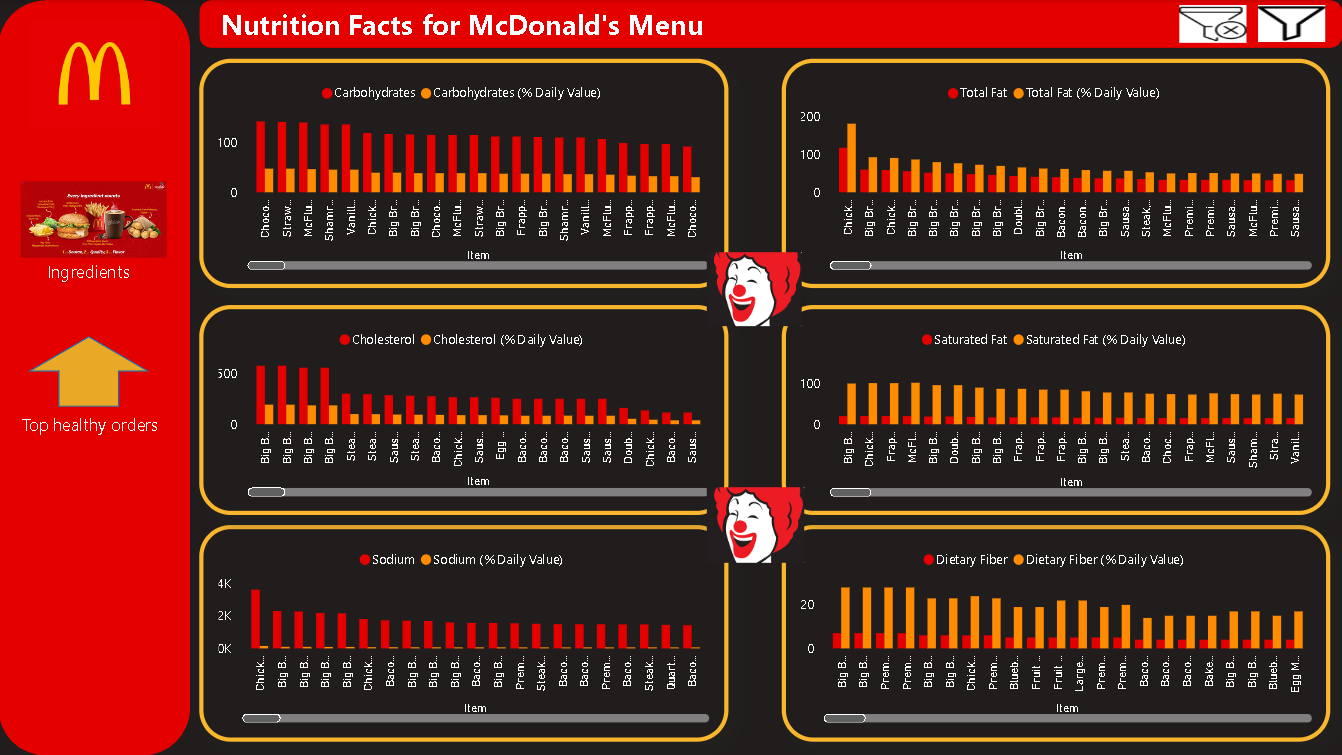

The page's visual inventory and layout, read from the dashboard file:
{"tool":"powerbi","page":{"name":"Ingredients","canvas":[1280,720],"ordinal":1},"visuals":[{"type":"shape","box":[191.4,0,1088.6,45.7],"z":0},{"type":"shape","box":[955,45,323.8,330],"z":0,"group":"g1"},{"type":"shape","box":[0,0,183.3,720.2],"z":1000},{"type":"slicer","fields":{"Values":["1_(EDA) on Retail Sales Data.Category"]},"box":[968.8,56.2,300,300],"z":1000,"group":"g1"},{"type":"textbox","box":[207.1,0,525,56],"z":2000},{"type":"image","box":[1220,56,48,42],"z":2000,"group":"g1"},{"type":"clusteredColumnChart","fields":{"Category":["1_(EDA) on Retail Sales Data.Item"],"Y":["Sum(1_(EDA) on Retail Sales Data.Sodium)","Sum(1_(EDA) on Retail Sales Data.Sodium (% Daily Value))"]},"box":[191.2,500,503.8,206.2],"z":3000},{"type":"clusteredColumnChart","fields":{"Category":["1_(EDA) on Retail Sales Data.Item"],"Y":["Sum(1_(EDA) on Retail Sales Data.Dietary Fiber)","Sum(1_(EDA) on Retail Sales Data.Dietary Fiber (% Daily Value))"]},"box":[746.2,500,522.5,206.2],"z":4000},{"type":"clusteredColumnChart","fields":{"Category":["1_(EDA) on Retail Sales Data.Item"],"Y":["Sum(1_(EDA) on Retail Sales Data.Saturated Fat)","Sum(1_(EDA) on Retail Sales Data.Saturated Fat (% Daily Value))"]},"box":[746.2,290,522.5,200],"z":5000},{"type":"clusteredColumnChart","fields":{"Category":["1_(EDA) on Retail Sales Data.Item"],"Y":["Sum(1_(EDA) on Retail Sales Data.Total Fat)","Sum(1_(EDA) on Retail Sales Data.Total Fat (% Daily Value))"]},"box":[746.2,56.2,522.5,218.8],"z":6000},{"type":"clusteredColumnChart","fields":{"Category":["1_(EDA) on Retail Sales Data.Item"],"Y":["Sum(1_(EDA) on Retail Sales Data.Cholesterol)","Sum(1_(EDA) on Retail Sales Data.Cholesterol (% Daily Value))"]},"box":[191.2,290,503.8,200],"z":7000},{"type":"clusteredColumnChart","fields":{"Category":["1_(EDA) on Retail Sales Data.Item"],"Y":["Sum(1_(EDA) on Retail Sales Data.Carbohydrates)","Sum(1_(EDA) on Retail Sales Data.Carbohydrates (% Daily Value))"]},"box":[191.2,56.2,503.8,218.8],"z":8000},{"type":"image","box":[1195,0,73.8,45],"z":9000},{"type":"image","box":[670,225,100,100],"z":11000},{"type":"image","box":[670,448.8,102.5,102.5],"z":12000},{"type":"image","box":[23.8,14.3,135.7,113.1],"z":13000},{"type":"image","box":[16.2,167.5,148.8,82.5],"z":14000},{"type":"textbox","box":[41.2,241.2,100,33.8],"z":15000},{"type":"textbox","box":[17.5,387.5,156.2,35],"z":16000},{"type":"shape","box":[28.8,320,116.2,67.5],"z":17000},{"type":"image","box":[1120.3,0,73.4,45.6],"z":18000},{"type":"group","id":"g1","title":"Group 1","box":[955,45,323.8,330],"z":18500}]}

Visuals, with their boxes in screenshot pixels (x1, y1, x2, y2), scaled from the page's 1280x720 canvas onto the 1342x755 screenshot:
shape: 201, 0, 1341, 48
shape: 1001, 47, 1341, 393
shape: 0, 0, 192, 754
slicer - 1_(EDA) on Retail Sales Data.Category: 1016, 59, 1330, 374
textbox: 217, 0, 768, 59
image: 1279, 59, 1329, 103
clusteredColumnChart - 1_(EDA) on Retail Sales Data.Item x Sum(1_(EDA) on Retail Sales Data.Sodium): 200, 524, 729, 741
clusteredColumnChart - 1_(EDA) on Retail Sales Data.Item x Sum(1_(EDA) on Retail Sales Data.Dietary Fiber): 782, 524, 1330, 741
clusteredColumnChart - 1_(EDA) on Retail Sales Data.Item x Sum(1_(EDA) on Retail Sales Data.Saturated Fat): 782, 304, 1330, 514
clusteredColumnChart - 1_(EDA) on Retail Sales Data.Item x Sum(1_(EDA) on Retail Sales Data.Total Fat): 782, 59, 1330, 288
clusteredColumnChart - 1_(EDA) on Retail Sales Data.Item x Sum(1_(EDA) on Retail Sales Data.Cholesterol): 200, 304, 729, 514
clusteredColumnChart - 1_(EDA) on Retail Sales Data.Item x Sum(1_(EDA) on Retail Sales Data.Carbohydrates): 200, 59, 729, 288
image: 1253, 0, 1330, 47
image: 702, 236, 807, 341
image: 702, 471, 810, 578
image: 25, 15, 167, 134
image: 17, 176, 173, 262
textbox: 43, 253, 148, 288
textbox: 18, 406, 182, 443
shape: 30, 336, 152, 406
image: 1175, 0, 1252, 48
"Group 1" group: 1001, 47, 1341, 393
